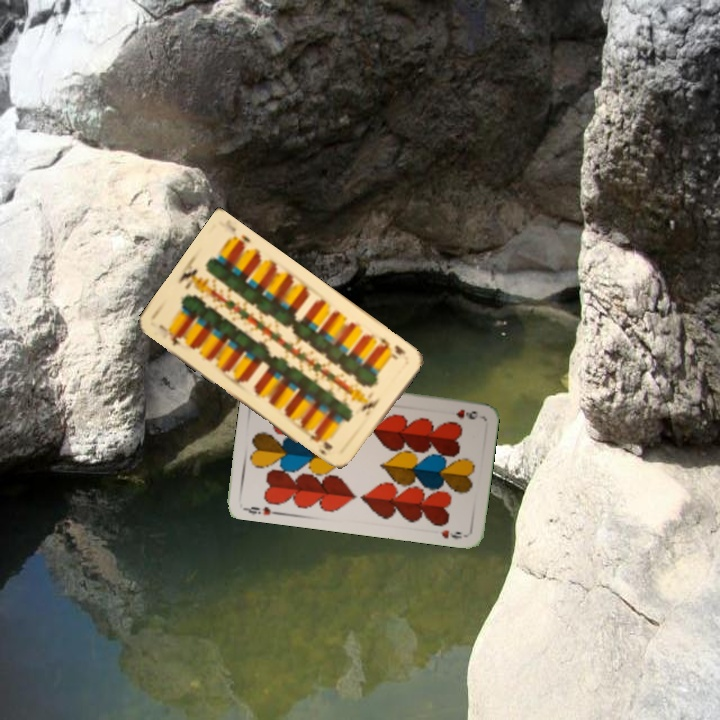E10: (373, 332, 408, 361), (155, 320, 189, 349)
H9: (240, 502, 281, 518), (452, 405, 480, 422)
